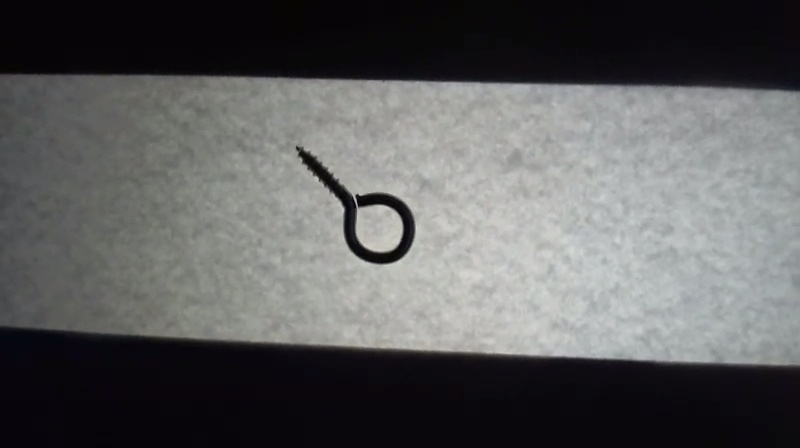O001: (292, 144, 422, 268)
